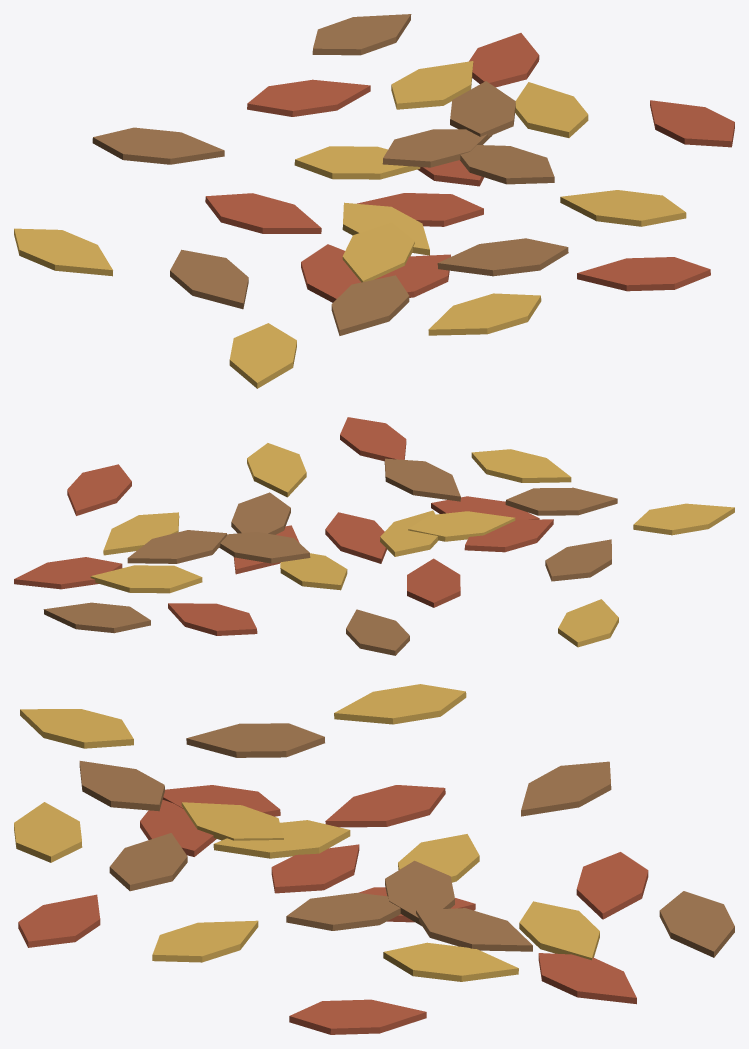
The model's file is almanac-gardens-fallen-leaves-6941fa1e__22058.glb.
The picture shows the model from 3 angles, top to bottom: view 1: azimuth 30°, elevation 25°; view 2: azimuth 150°, elevation 25°; view 3: azimuth 270°, elevation 25°; orthographic projection. The views are drawn at different scales.
Visible parts, largest first — view 1: fallen-leaves-gold, fallen-leaves-oak, fallen-leaves-clay; view 2: fallen-leaves-gold, fallen-leaves-oak, fallen-leaves-clay; view 3: fallen-leaves-gold, fallen-leaves-oak, fallen-leaves-clay.
Boxes of the visible parts, x1,y1,x2,y2 form: fallen-leaves-gold: (14,61,686,388); fallen-leaves-oak: (92,14,568,335); fallen-leaves-clay: (205,33,734,302); fallen-leaves-gold: (90,443,734,647); fallen-leaves-oak: (43,458,617,655); fallen-leaves-clay: (14,417,553,635); fallen-leaves-gold: (14,684,599,981); fallen-leaves-oak: (79,723,734,957); fallen-leaves-clay: (18,785,648,1034).
Size of the model in its own units: 0.9279 by 0.0248 by 0.8316.
